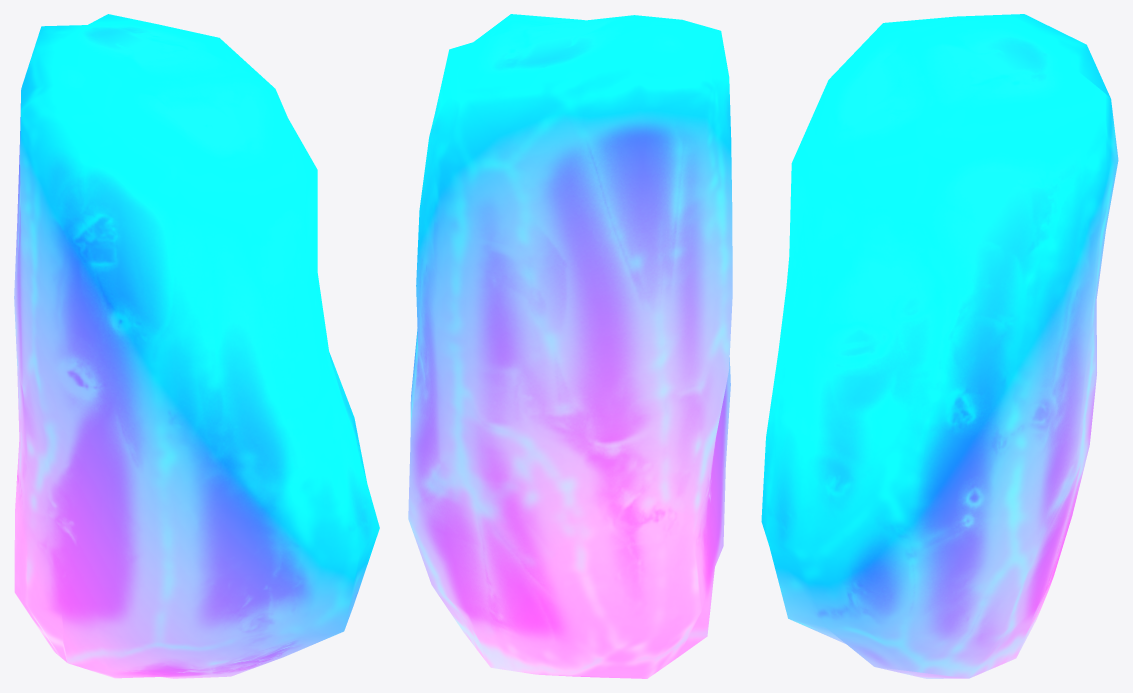
Rendered from free_magic_gemme.glb.
3 renders of one model, left to right at view 1: azimuth 30°, elevation 25°; view 2: azimuth 150°, elevation 25°; view 3: azimuth 270°, elevation 25°, orthographic. The views are drawn at different scales.
Visible parts, largest first — view 1: Object001_Gemme_LOD0_mat_0; view 2: Object001_Gemme_LOD0_mat_0; view 3: Object001_Gemme_LOD0_mat_0.
Boxes of the visible parts, x1,y1,x2,y2 form: Object001_Gemme_LOD0_mat_0: (14,14,379,678); Object001_Gemme_LOD0_mat_0: (408,14,732,678); Object001_Gemme_LOD0_mat_0: (761,14,1118,678).
Bounding box in the file's own units: 0.0166 × 0.0335 × 0.0182.
1 material, 1 textured.
